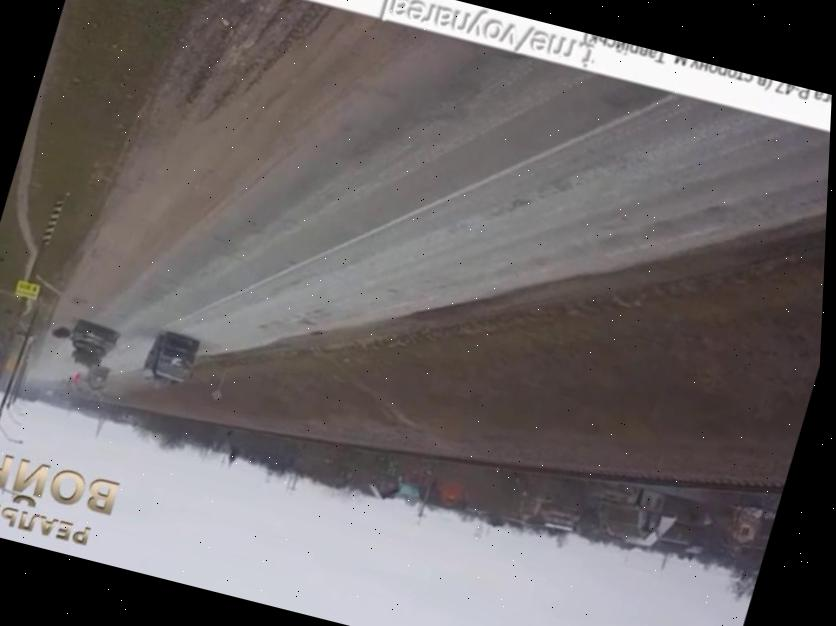tank: (63, 320, 121, 372)
truck: (140, 328, 202, 391), (76, 362, 112, 396)
